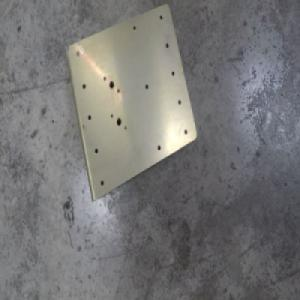MetalSheet: (63, 2, 198, 205)
